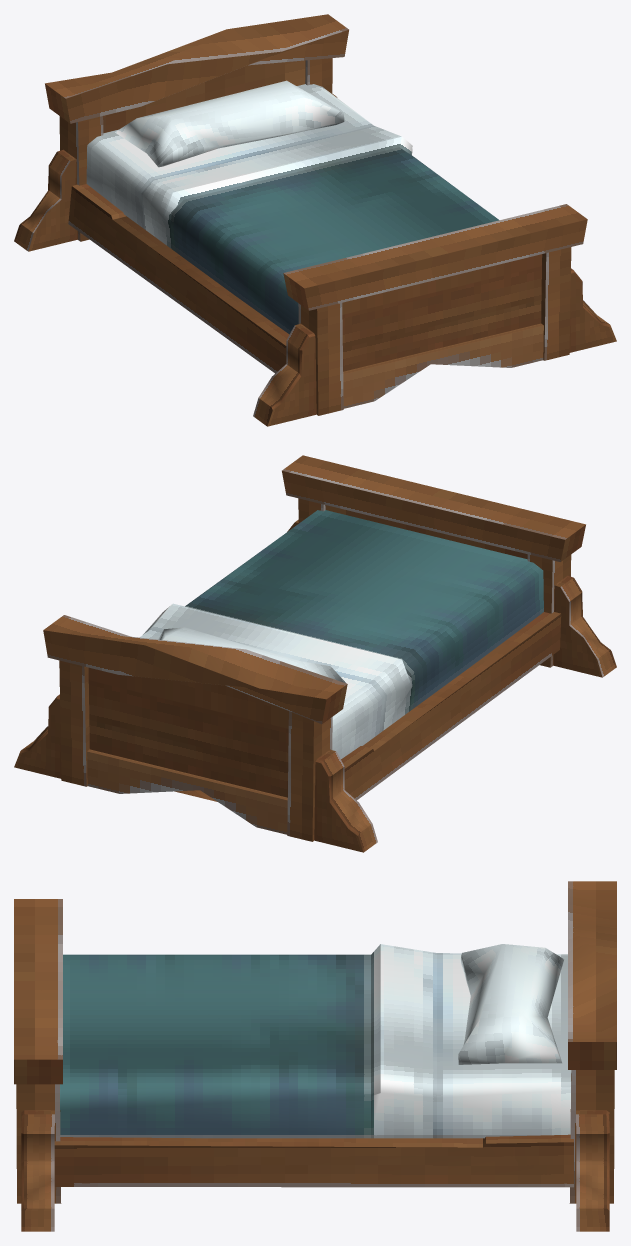
Rendered from bed-Da6cq-dw.glb.
3 views of the same model, one above another, from view 1: azimuth 30°, elevation 25°; view 2: azimuth 150°, elevation 25°; view 3: azimuth 270°, elevation 25° (orthographic). The views are drawn at different scales.
Size of the model in its own units: 1.88 by 0.8051 by 2.41.
Materials: 1 (1 with a texture image).
